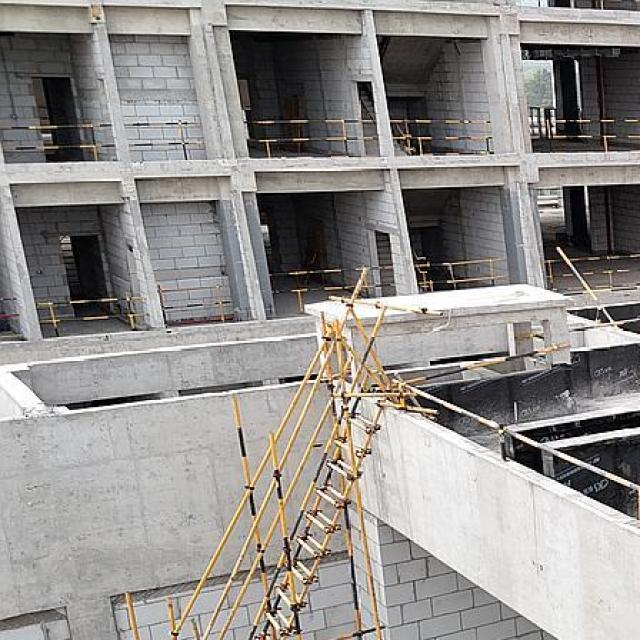edge_guardrail: (404, 384, 640, 522), (405, 343, 572, 384), (268, 265, 396, 314), (243, 119, 378, 158), (555, 246, 618, 327), (35, 296, 148, 337), (0, 123, 116, 161), (390, 119, 493, 157), (157, 284, 232, 329), (544, 254, 640, 289), (545, 117, 640, 152), (124, 122, 206, 161), (414, 258, 506, 292), (514, 318, 640, 341), (0, 297, 21, 318)
